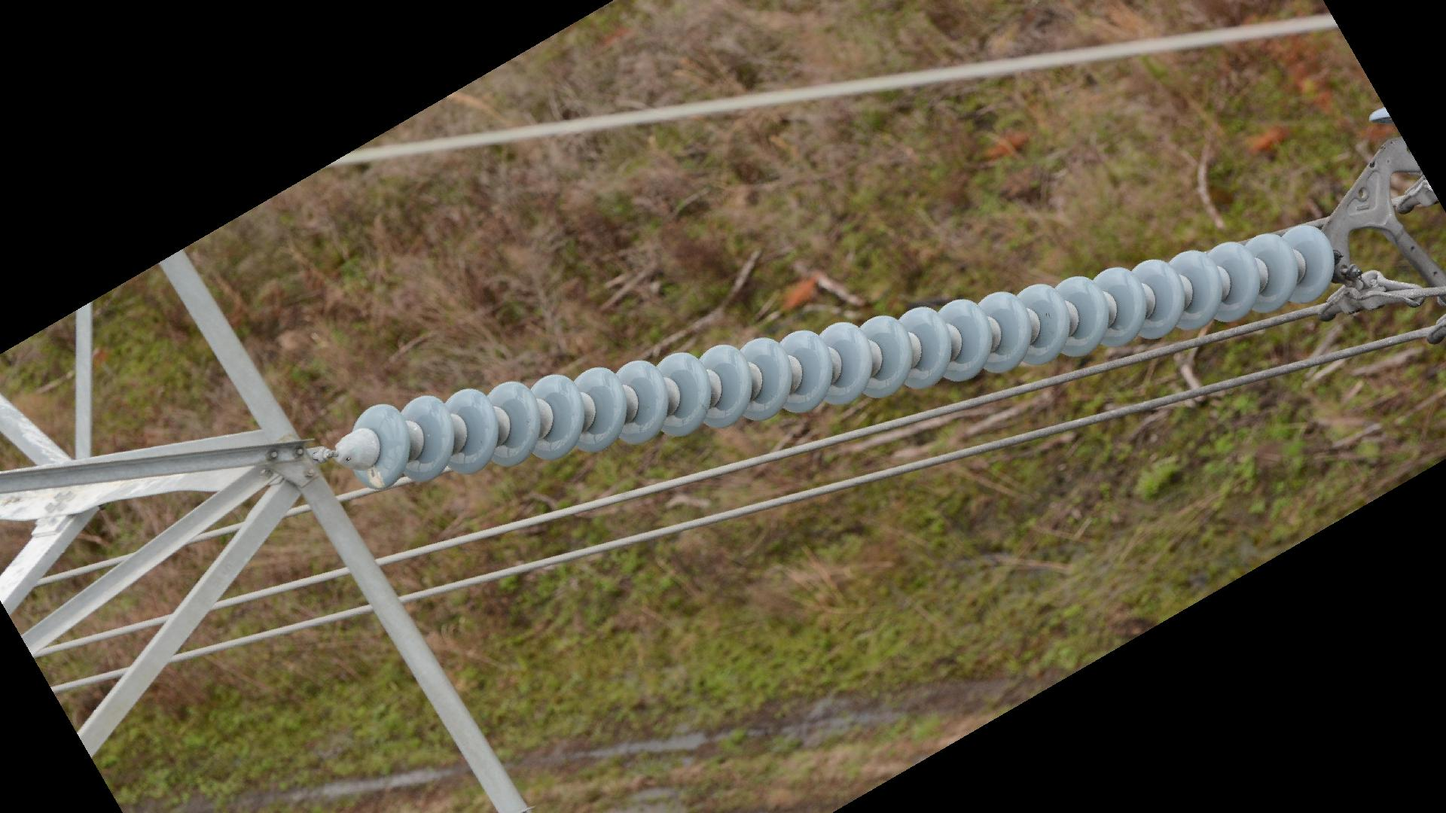insulator: (349, 216, 1341, 498)
insulator_flashover: (365, 463, 389, 492)
